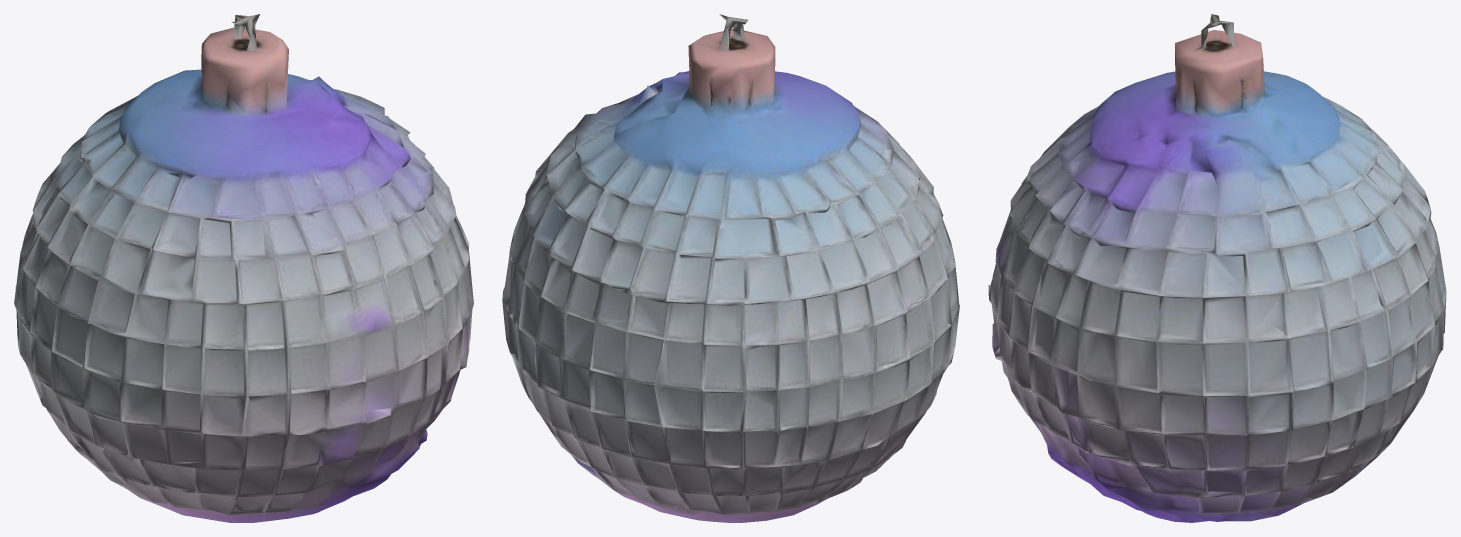
Rendered from discoball.glb.
The picture shows the model from 3 angles, left to right: view 1: azimuth 30°, elevation 25°; view 2: azimuth 150°, elevation 25°; view 3: azimuth 270°, elevation 25°; orthographic projection.
Visible parts, largest first — view 1: tripo_node_5764a0fd-8891-4e02-b157-fdedd1933867; view 2: tripo_node_5764a0fd-8891-4e02-b157-fdedd1933867; view 3: tripo_node_5764a0fd-8891-4e02-b157-fdedd1933867.
Boxes of the visible parts, x1,y1,x2,y2 form: tripo_node_5764a0fd-8891-4e02-b157-fdedd1933867: (14, 14, 473, 522); tripo_node_5764a0fd-8891-4e02-b157-fdedd1933867: (502, 14, 959, 522); tripo_node_5764a0fd-8891-4e02-b157-fdedd1933867: (988, 14, 1446, 522).
Size of the model in its own units: 0.8536 by 1 by 0.8592.
Materials: 1 (1 with a texture image).
